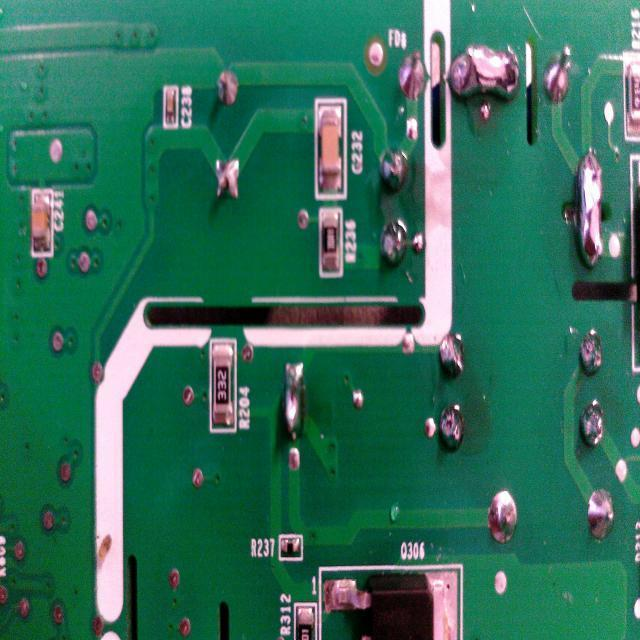Soldering shorted: (450, 36, 522, 111), (574, 146, 606, 279), (284, 358, 306, 448)
